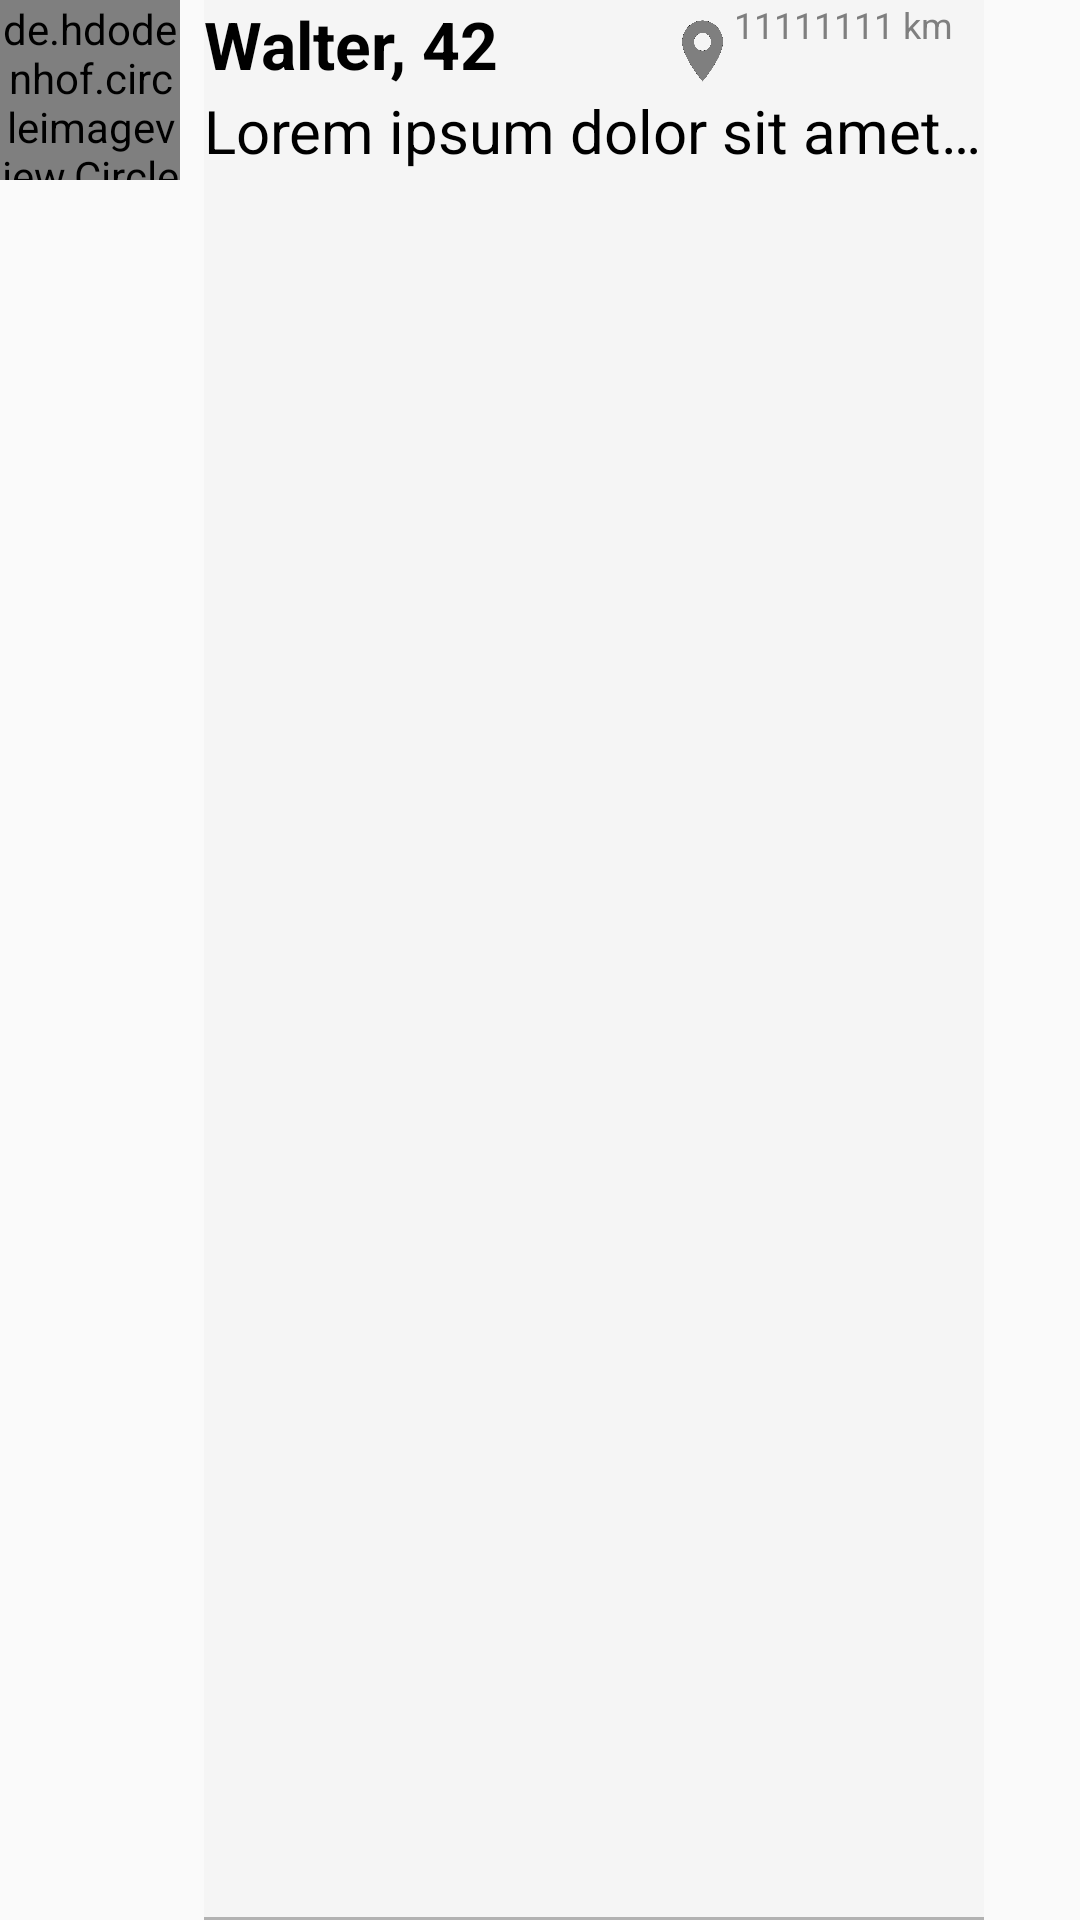

Screen size 1080 x 1920. Icon name, then its center in pixels as [x,y]:
location: [702,51]
